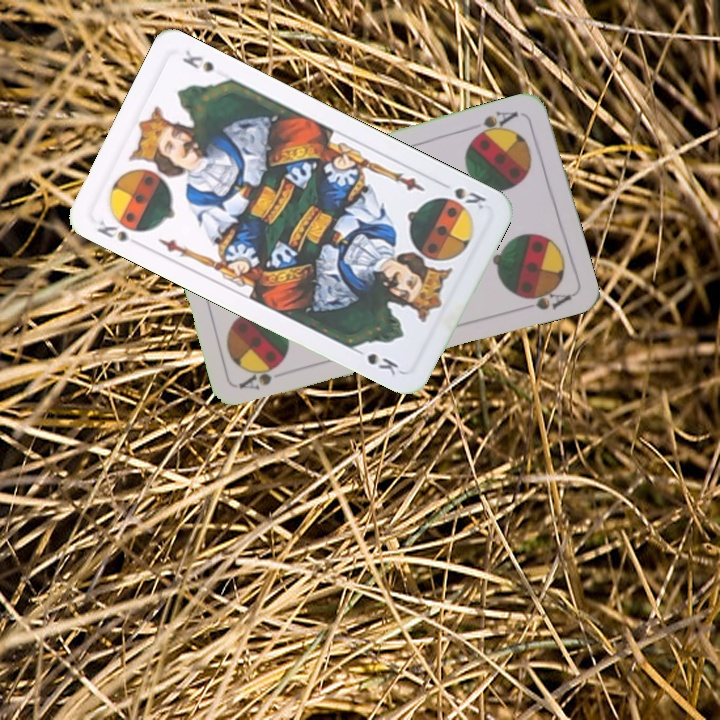SA: (468, 107, 521, 142), (236, 360, 284, 393)
SK: (92, 216, 146, 250), (450, 183, 490, 212)
